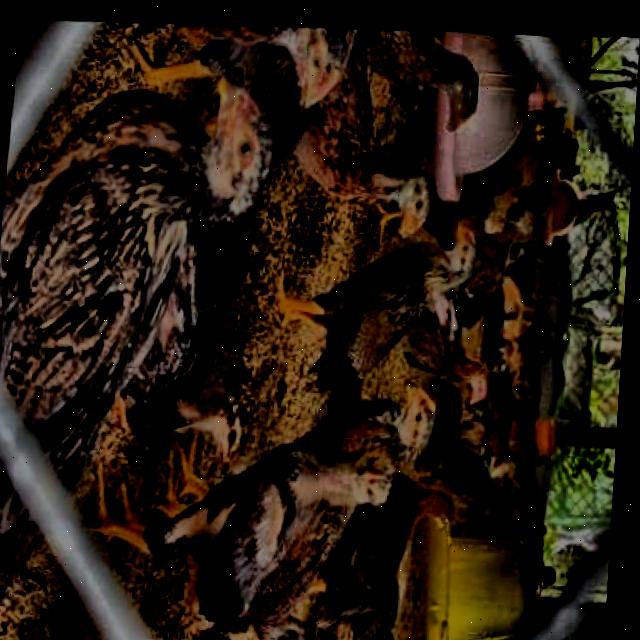Healthy: (223, 110, 266, 167)
